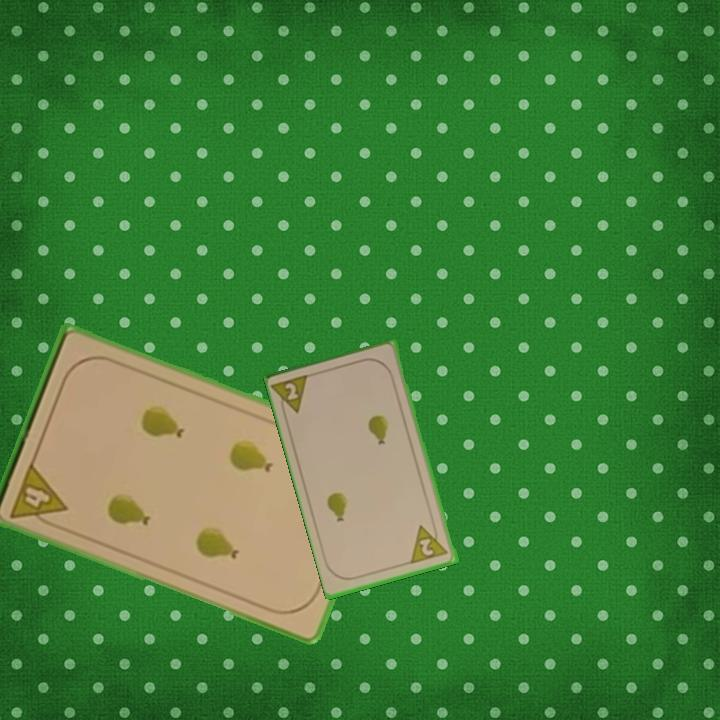2p: (270, 371, 314, 421), (408, 519, 451, 567)
4p: (6, 458, 70, 532)
